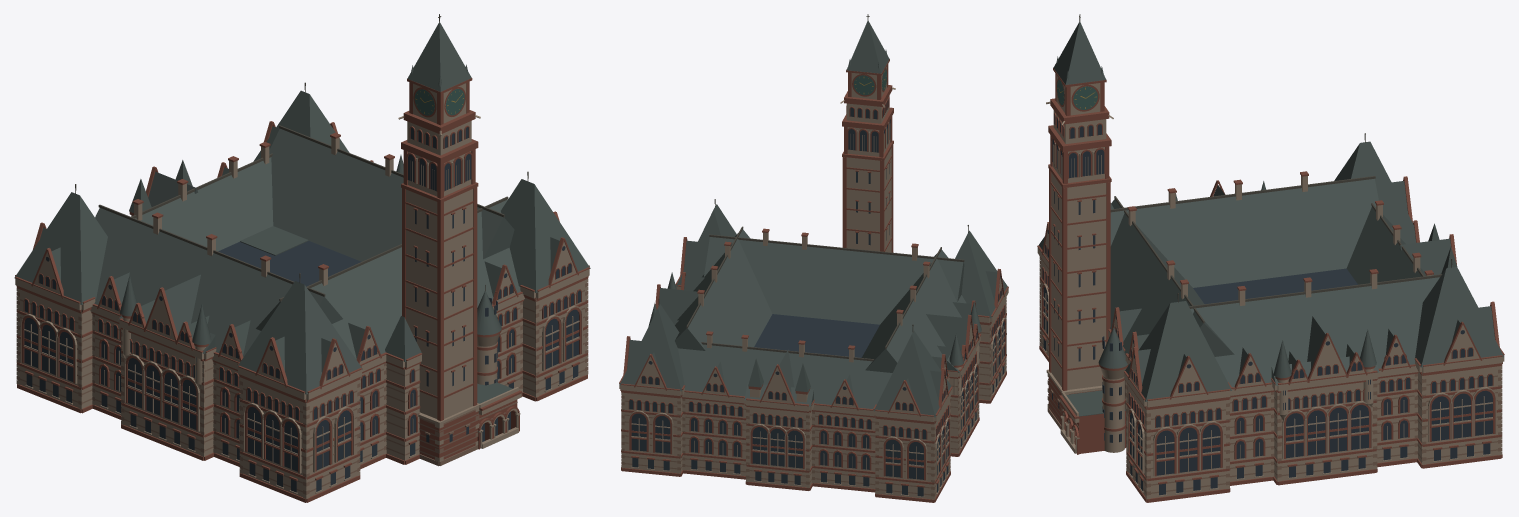
The model's file is old-city-hall-near.glb.
The picture shows the model from 3 angles, left to right: view 1: azimuth 30°, elevation 25°; view 2: azimuth 150°, elevation 25°; view 3: azimuth 270°, elevation 25°; orthographic projection. The views are drawn at different scales.
Visible parts, largest first — view 1: old-city-hall-0-roof, old-city-hall-0-stone, old-city-hall-0-redstone, old-city-hall-0-glass, old-city-hall-0-band, old-city-hall-0-trim, old-city-hall-0-glow; view 2: old-city-hall-0-roof, old-city-hall-0-stone, old-city-hall-0-redstone, old-city-hall-0-glass, old-city-hall-0-band, old-city-hall-0-trim, old-city-hall-0-glow; view 3: old-city-hall-0-roof, old-city-hall-0-stone, old-city-hall-0-redstone, old-city-hall-0-glass, old-city-hall-0-band, old-city-hall-0-trim, old-city-hall-0-glow.
Part boxes in pixels (box(x1,y1,x2,y2)): old-city-hall-0-roof: box(14, 22, 590, 403); old-city-hall-0-stone: box(15, 83, 589, 498); old-city-hall-0-redstone: box(15, 78, 589, 502); old-city-hall-0-glass: box(24, 127, 580, 492); old-city-hall-0-band: box(16, 282, 588, 494); old-city-hall-0-trim: box(75, 14, 528, 301); old-city-hall-0-glow: box(414, 89, 464, 115); old-city-hall-0-roof: box(619, 20, 1007, 417); old-city-hall-0-stone: box(619, 66, 1008, 499); old-city-hall-0-redstone: box(619, 59, 1008, 502); old-city-hall-0-glass: box(629, 99, 1004, 496); old-city-hall-0-band: box(621, 299, 1006, 496); old-city-hall-0-trim: box(658, 14, 968, 361); old-city-hall-0-glow: box(853, 69, 886, 95); old-city-hall-0-roof: box(1038, 22, 1503, 416); old-city-hall-0-stone: box(1037, 75, 1504, 499); old-city-hall-0-redstone: box(1037, 68, 1504, 502); old-city-hall-0-glass: box(1042, 114, 1492, 495); old-city-hall-0-band: box(1039, 260, 1502, 495); old-city-hall-0-trim: box(1079, 14, 1452, 327); old-city-hall-0-glow: box(1057, 80, 1097, 109).
Size of the model in its own units: 110 by 104 by 108.
